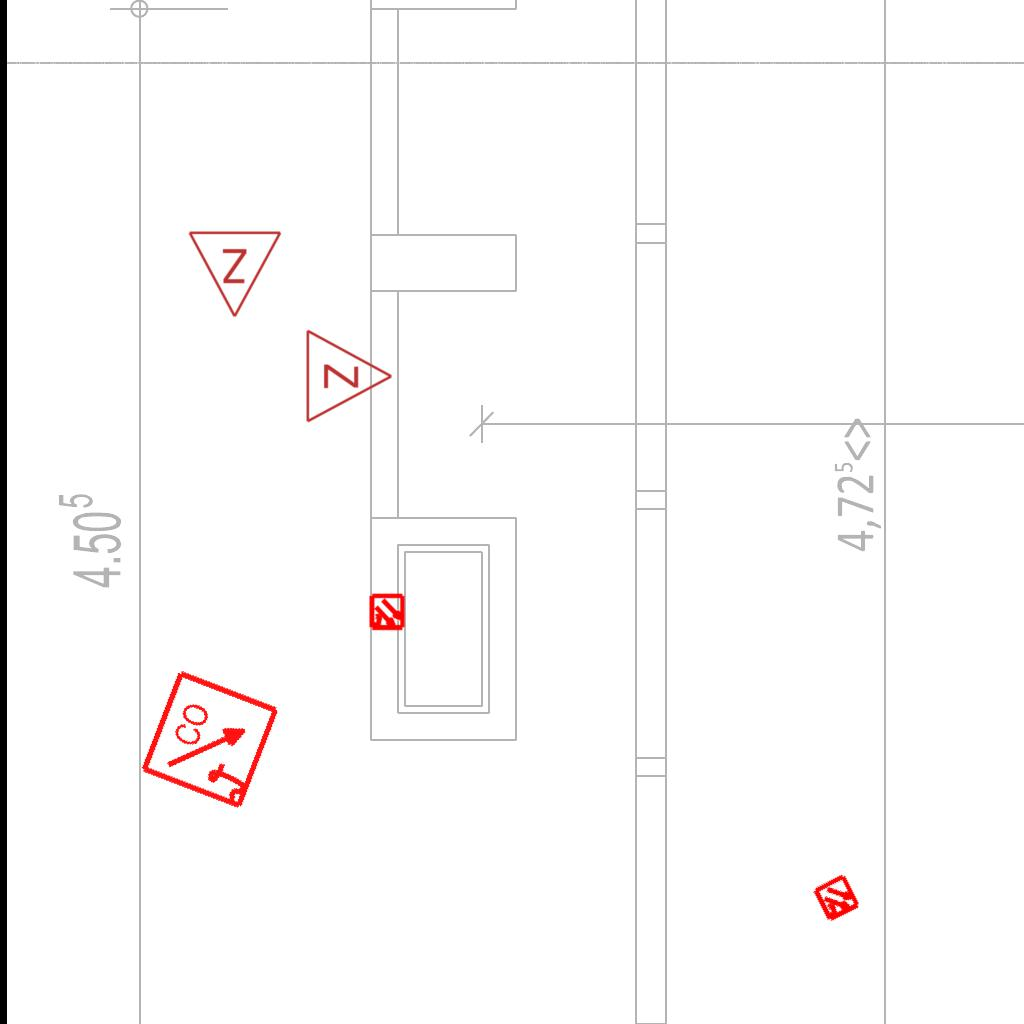OT_Multisensormelder_(Kombination_RMO_WMD): (799, 861, 875, 937), (359, 585, 415, 641)
ROA_Rauchmelder_optisch_mit_Signalgeber_(Sockelsirene): (138, 666, 285, 813)
Zimmersignalleuchte: (187, 224, 285, 324), (299, 326, 399, 424)
